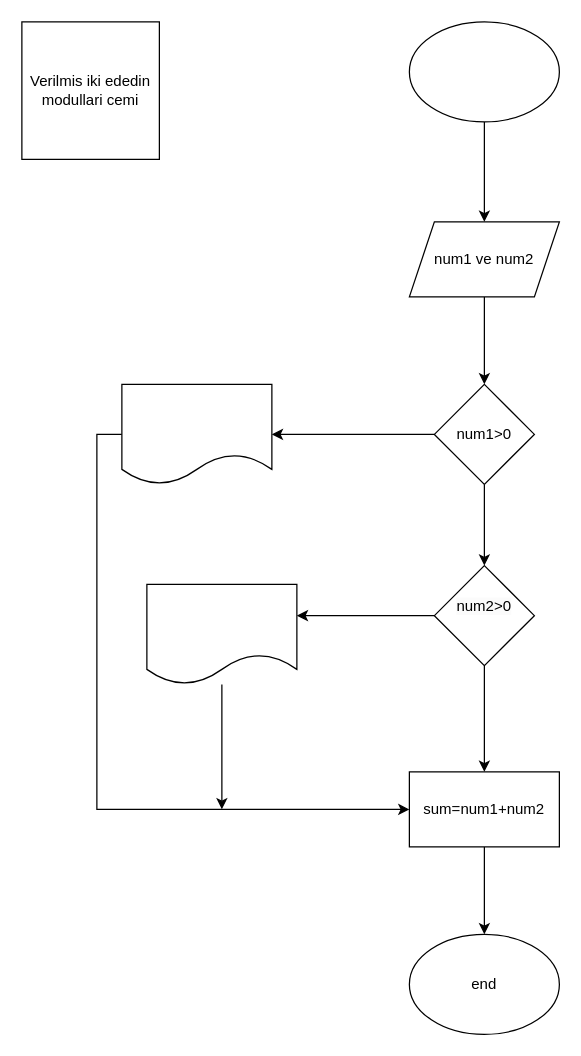
The diagram is 581 pixels wide and 1056 high, and some of its shapes have lost their labels. Each missing label, with the centre of its shape:
"num1*-1" goes at (196,433).
"num2*-1" goes at (221,633).
"start" goes at (483,71).
